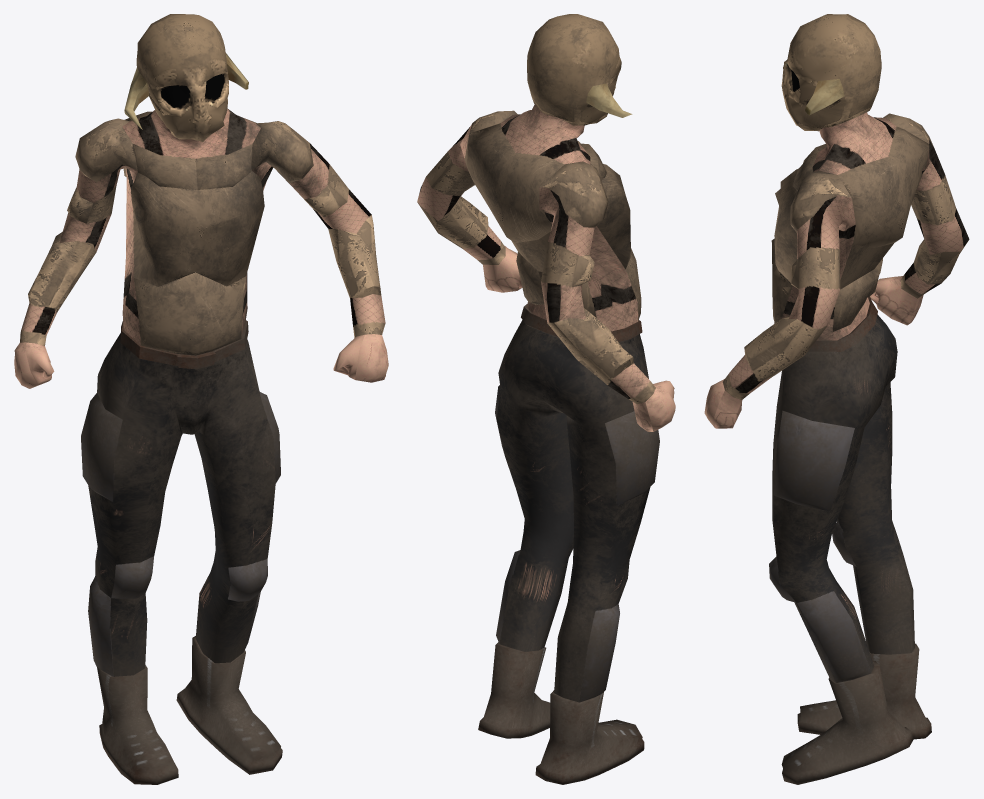
Rendered from Anim_ataque_f1_npc1.0010.obj.
3 views of the same model, side by side, from view 1: azimuth 30°, elevation 25°; view 2: azimuth 150°, elevation 25°; view 3: azimuth 270°, elevation 25° (orthographic). The views are drawn at different scales.
Parts seen in each view (by area): view 1: NPC2; view 2: NPC2; view 3: NPC2.
Part boxes in pixels (x1,y1,x2,y2): NPC2: [14, 14, 388, 784]; NPC2: [417, 14, 675, 784]; NPC2: [704, 14, 969, 784].
Bounding box in the file's own units: 4.1 × 9.6 × 3.15.
